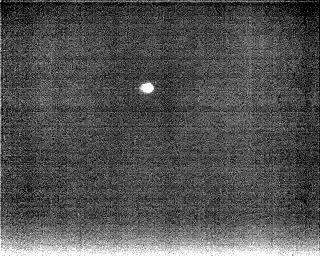AIRPLANE: (138, 80, 156, 97)
